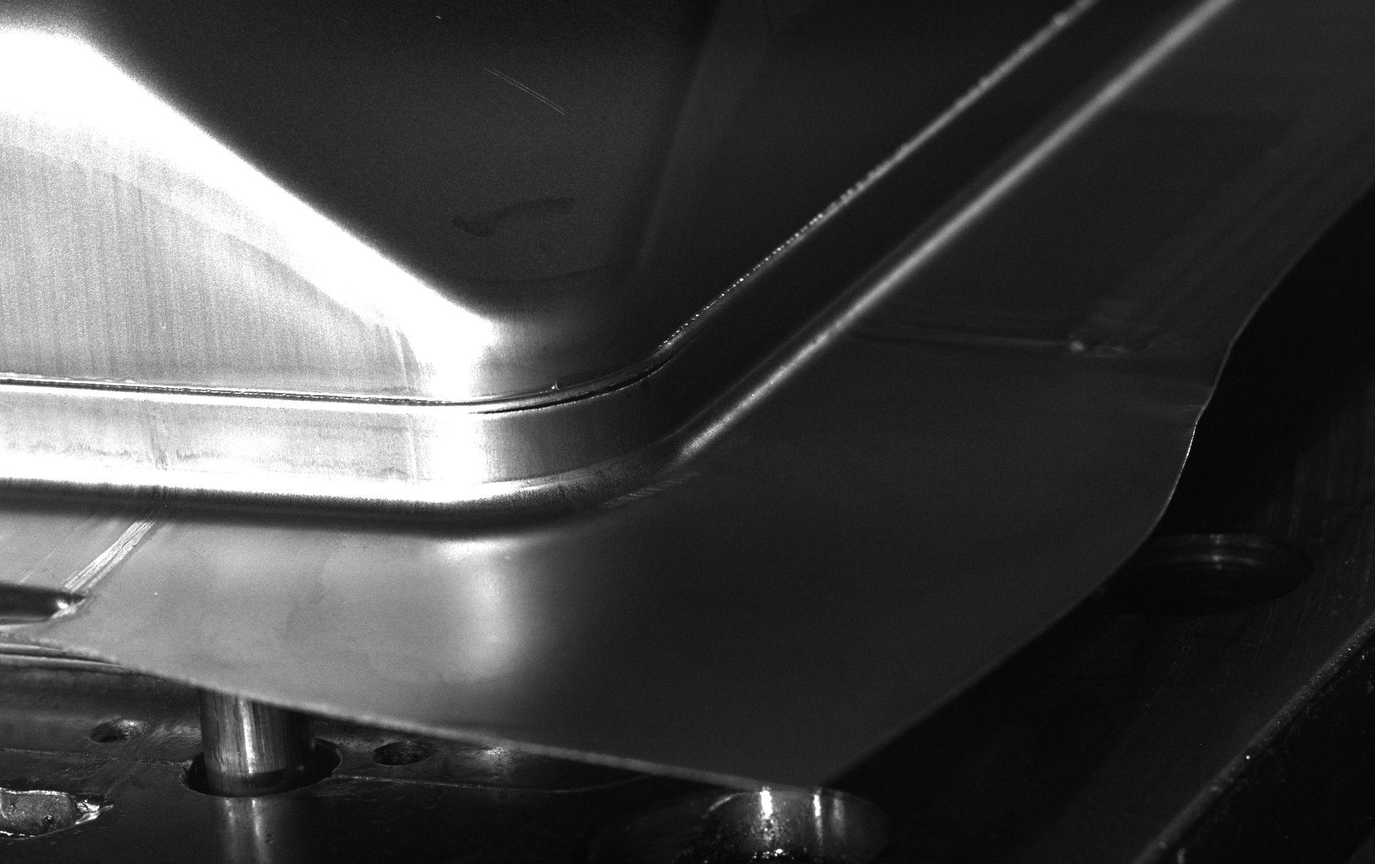crack: (420, 318, 687, 433)
